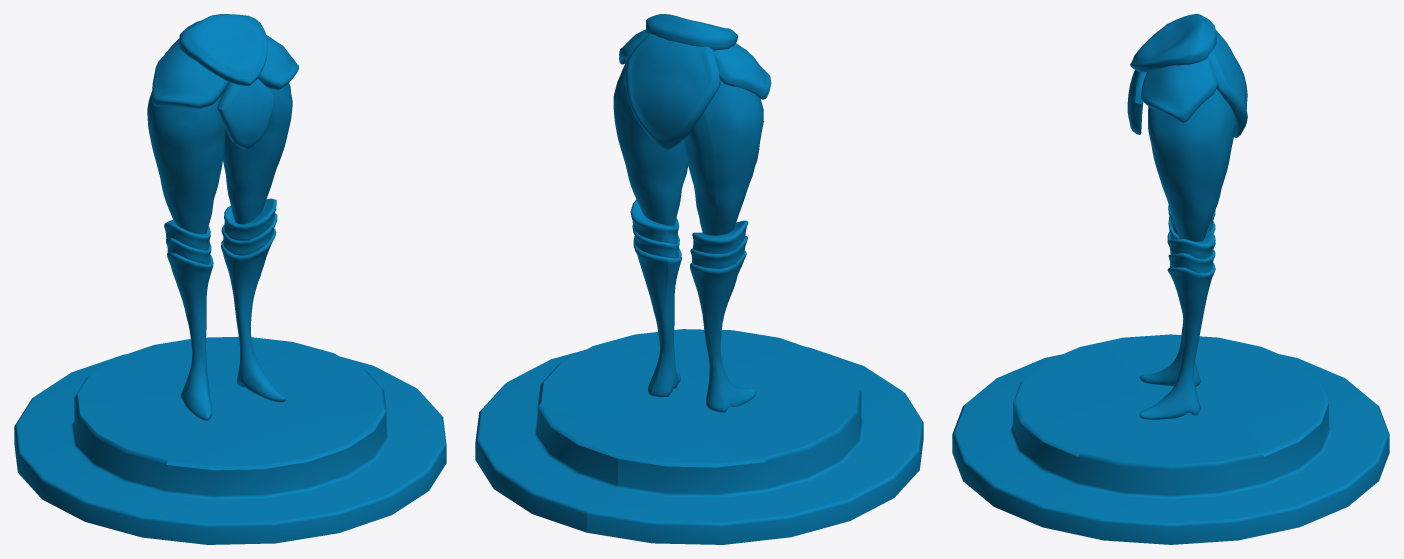
The model's file is SM_Chev_P.fbx.
3 renders of one model, left to right at view 1: azimuth 30°, elevation 25°; view 2: azimuth 150°, elevation 25°; view 3: azimuth 270°, elevation 25°, orthographic. The views are drawn at different scales.
Parts seen in each view (by area): view 1: SM_Chev_P; view 2: SM_Chev_P; view 3: SM_Chev_P.
Boxes of the visible parts, left/top/right/bottom form: SM_Chev_P: left=14, top=14, right=446, bottom=544; SM_Chev_P: left=475, top=14, right=923, bottom=544; SM_Chev_P: left=952, top=14, right=1389, bottom=544.
Size of the model in its own units: 6.25 by 6.77 by 6.25.
